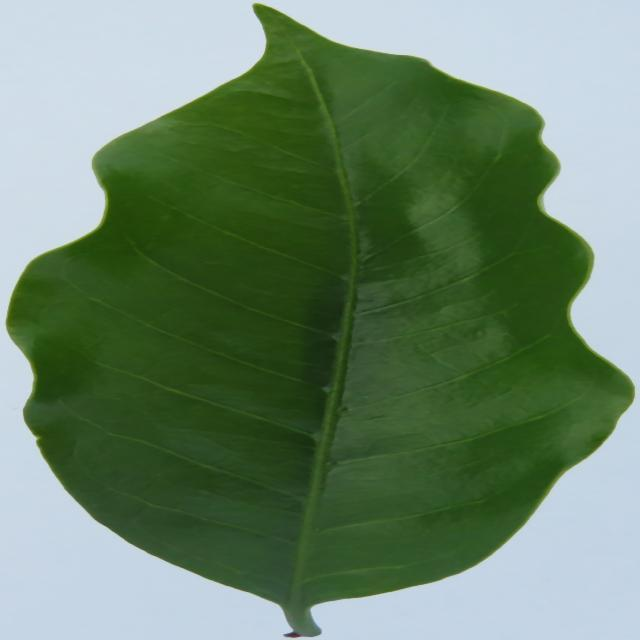DeficienciaNutricional-Calcio: (8, 5, 630, 636)
